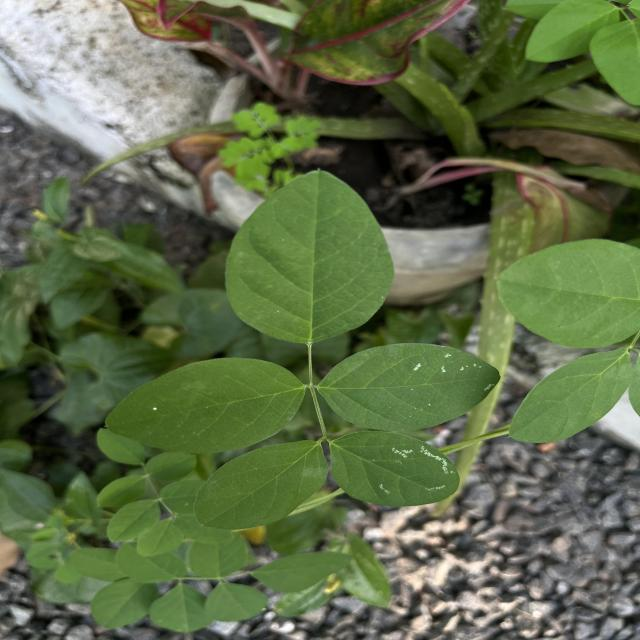Clitoria ternatea: (222, 167, 398, 345), (104, 355, 307, 455), (317, 342, 501, 432), (193, 439, 329, 531), (328, 431, 462, 508)
